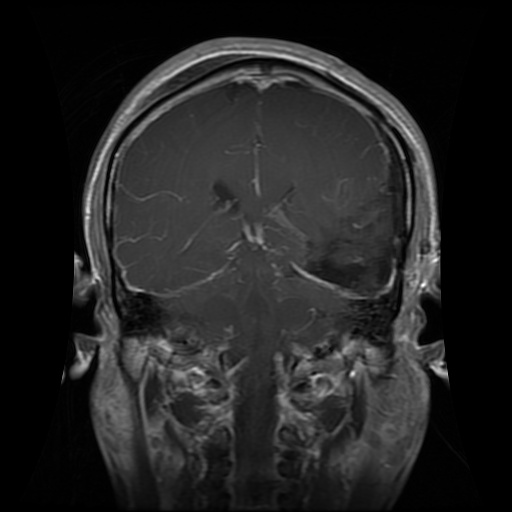glioma: (300, 189, 399, 296)
